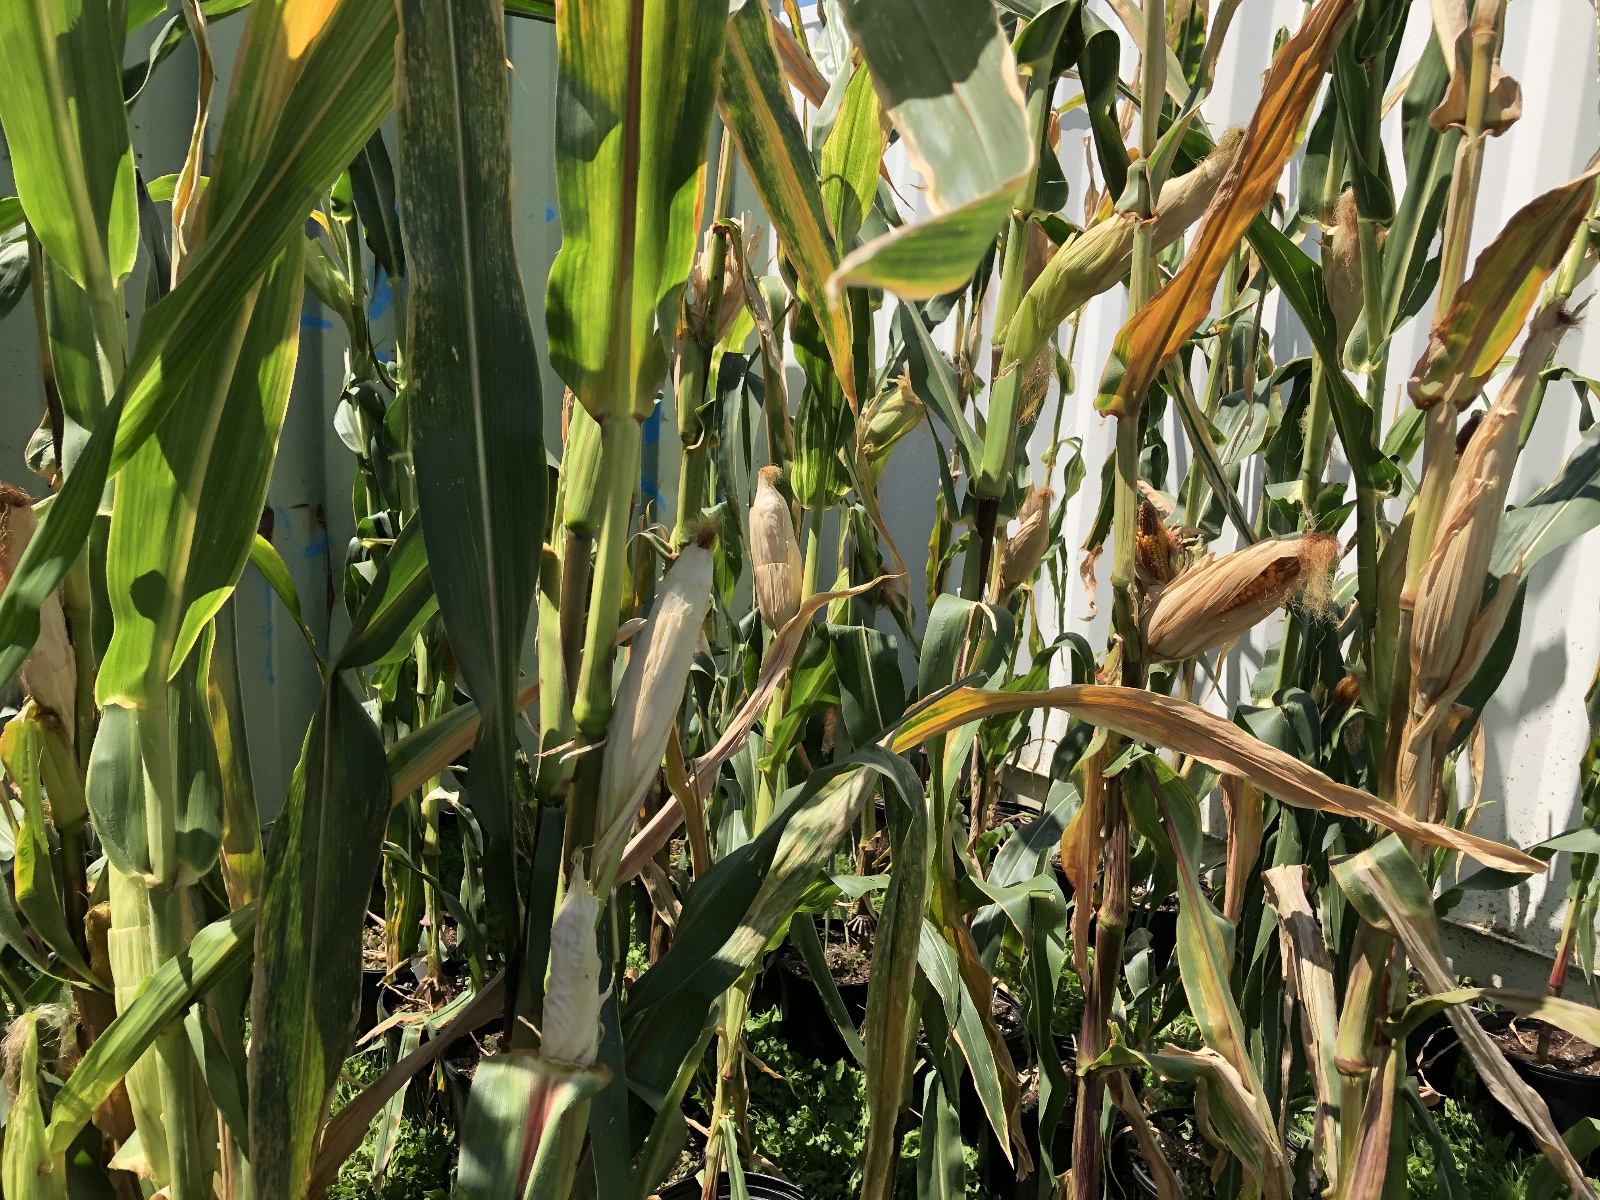ear: (1406, 289, 1574, 687), (1031, 115, 1259, 323), (577, 529, 724, 846), (1136, 524, 1342, 666), (1, 476, 78, 712), (535, 839, 609, 1071), (3, 998, 68, 1197), (743, 458, 810, 633), (1320, 176, 1380, 344), (993, 478, 1067, 592), (1128, 479, 1179, 594)
